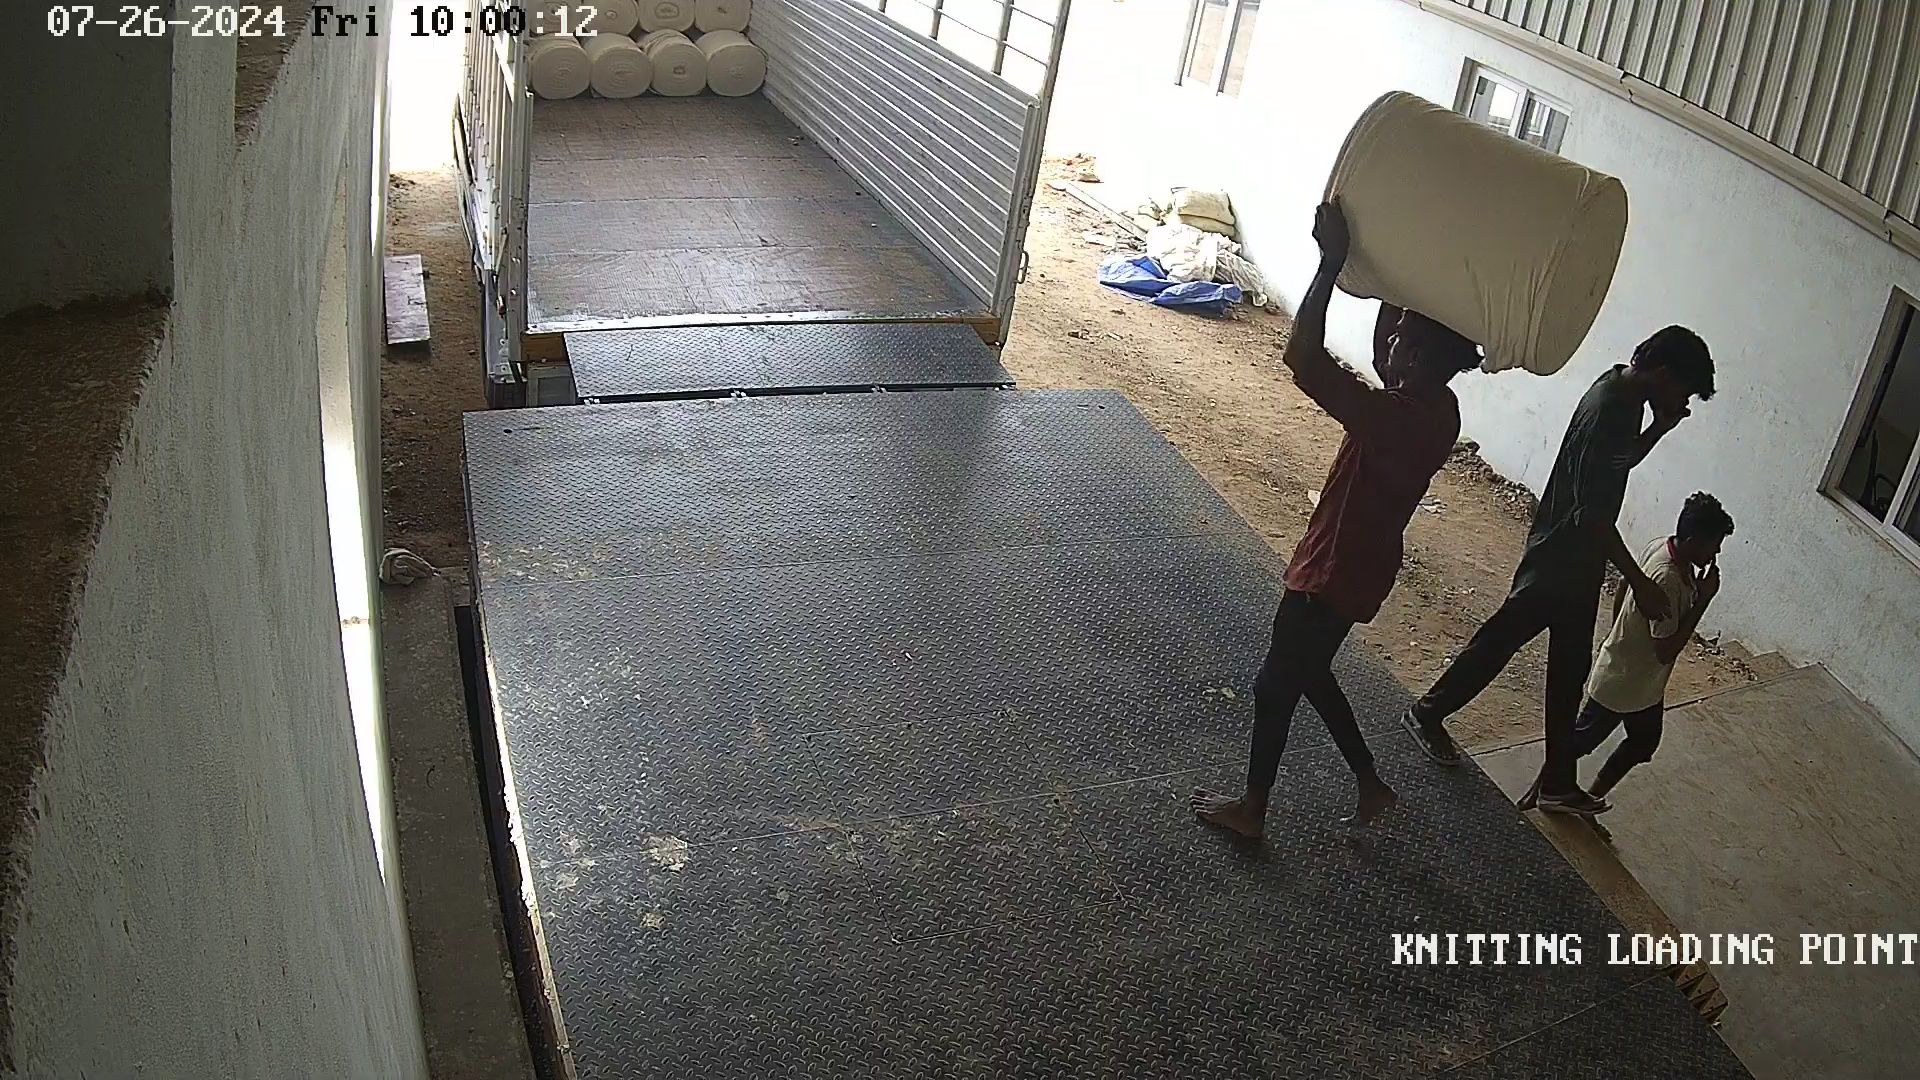bag: (1311, 87, 1636, 382)
